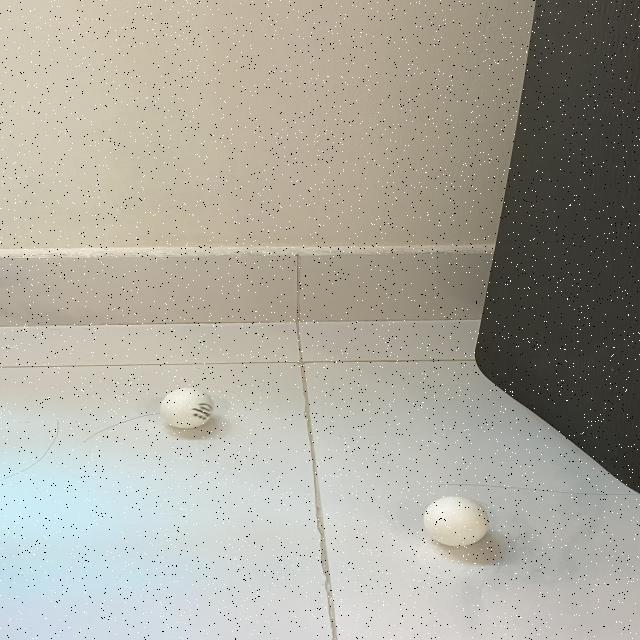ping-pong-ball: (424, 495, 489, 547), (162, 388, 216, 430)
